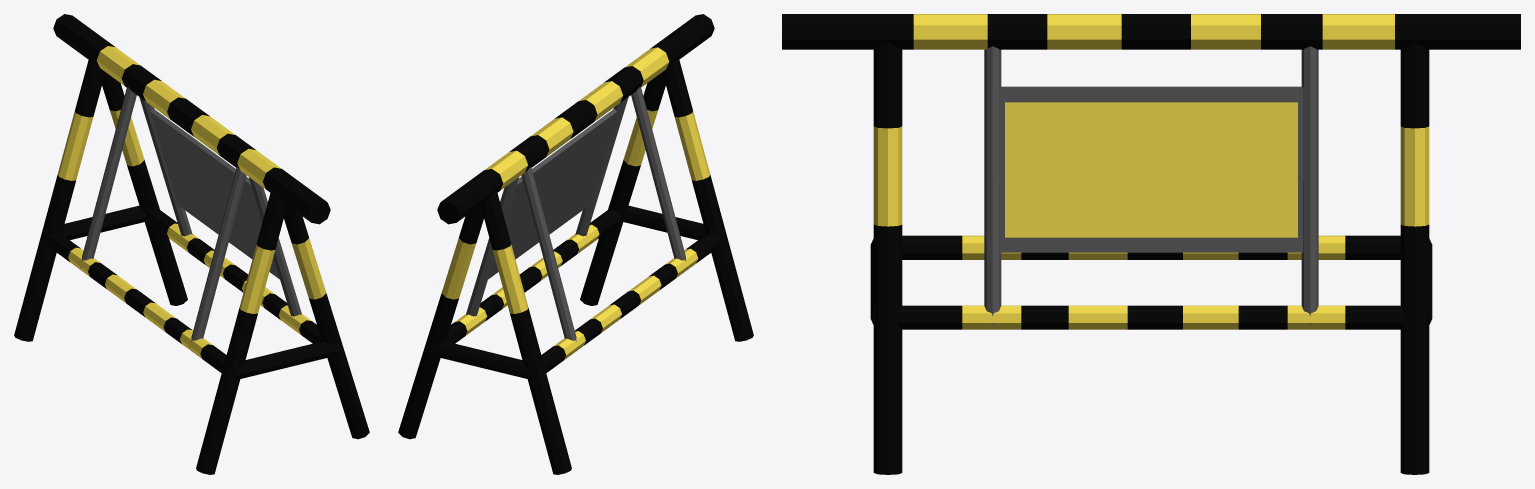
The model's file is barricade 1.fbx.
3 renders of one model, left to right at view 1: azimuth 30°, elevation 25°; view 2: azimuth 150°, elevation 25°; view 3: azimuth 270°, elevation 25°, orthographic. The views are drawn at different scales.
Parts seen in each view (by area): view 1: Cylinder.011, Cylinder.008, Cylinder.010, Cube.002, Cylinder.013, Cylinder.012; view 2: Cylinder.011, Cylinder.008, Cylinder.010, Cube.002, Cylinder.013, Cylinder.012; view 3: Cube.002, Cylinder.008, Cylinder.011, Cylinder.010, Cylinder.013.
Boxes of the visible parts, bbox=[...] form: Cylinder.011: bbox=[14, 58, 369, 474]; Cylinder.008: bbox=[53, 14, 330, 224]; Cylinder.010: bbox=[47, 209, 321, 372]; Cube.002: bbox=[150, 109, 279, 279]; Cylinder.013: bbox=[80, 87, 301, 347]; Cylinder.012: bbox=[62, 205, 340, 379]; Cylinder.011: bbox=[398, 58, 753, 474]; Cylinder.008: bbox=[437, 14, 714, 224]; Cylinder.010: bbox=[446, 209, 720, 372]; Cube.002: bbox=[488, 109, 617, 279]; Cylinder.013: bbox=[466, 87, 687, 347]; Cylinder.012: bbox=[427, 205, 705, 379]; Cube.002: bbox=[999, 86, 1303, 252]; Cylinder.008: bbox=[782, 14, 1520, 49]; Cylinder.011: bbox=[873, 43, 1429, 474]; Cylinder.010: bbox=[897, 235, 1405, 329]; Cylinder.013: bbox=[984, 46, 1318, 324].
Size of the model in its own units: 518 by 810 by 1332.
